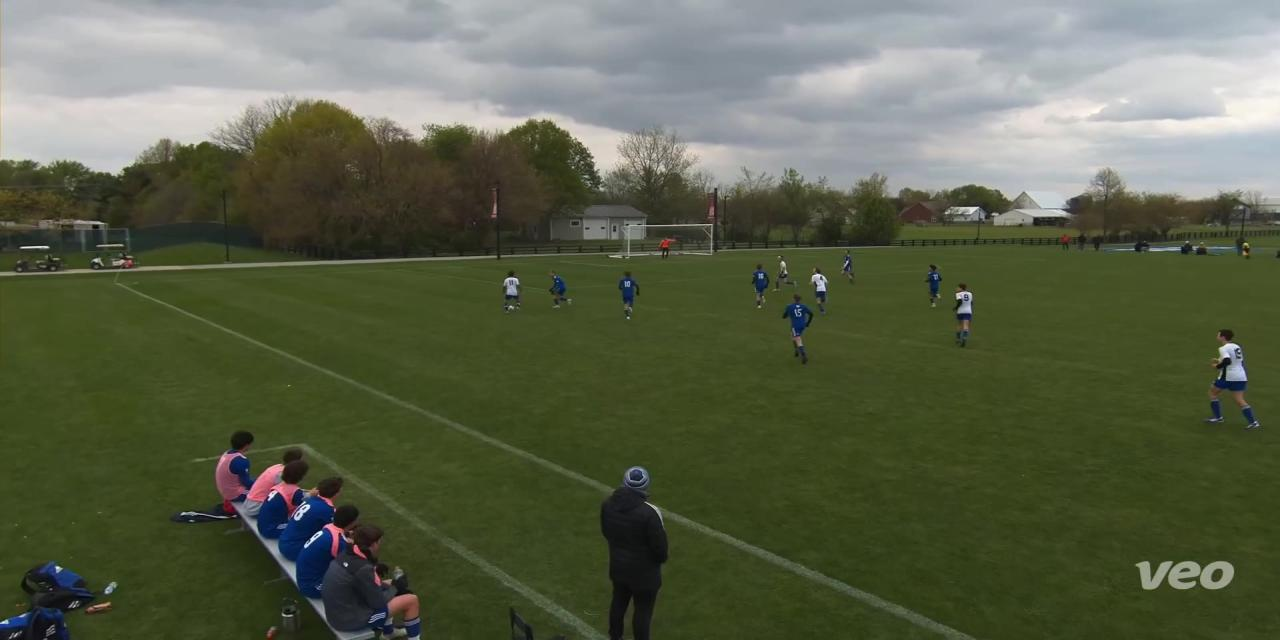goal: (609, 220, 720, 262)
sports ball: (507, 300, 519, 313)
